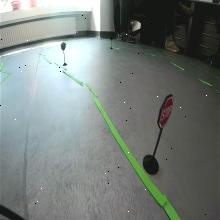stop: (157, 94, 174, 128)
